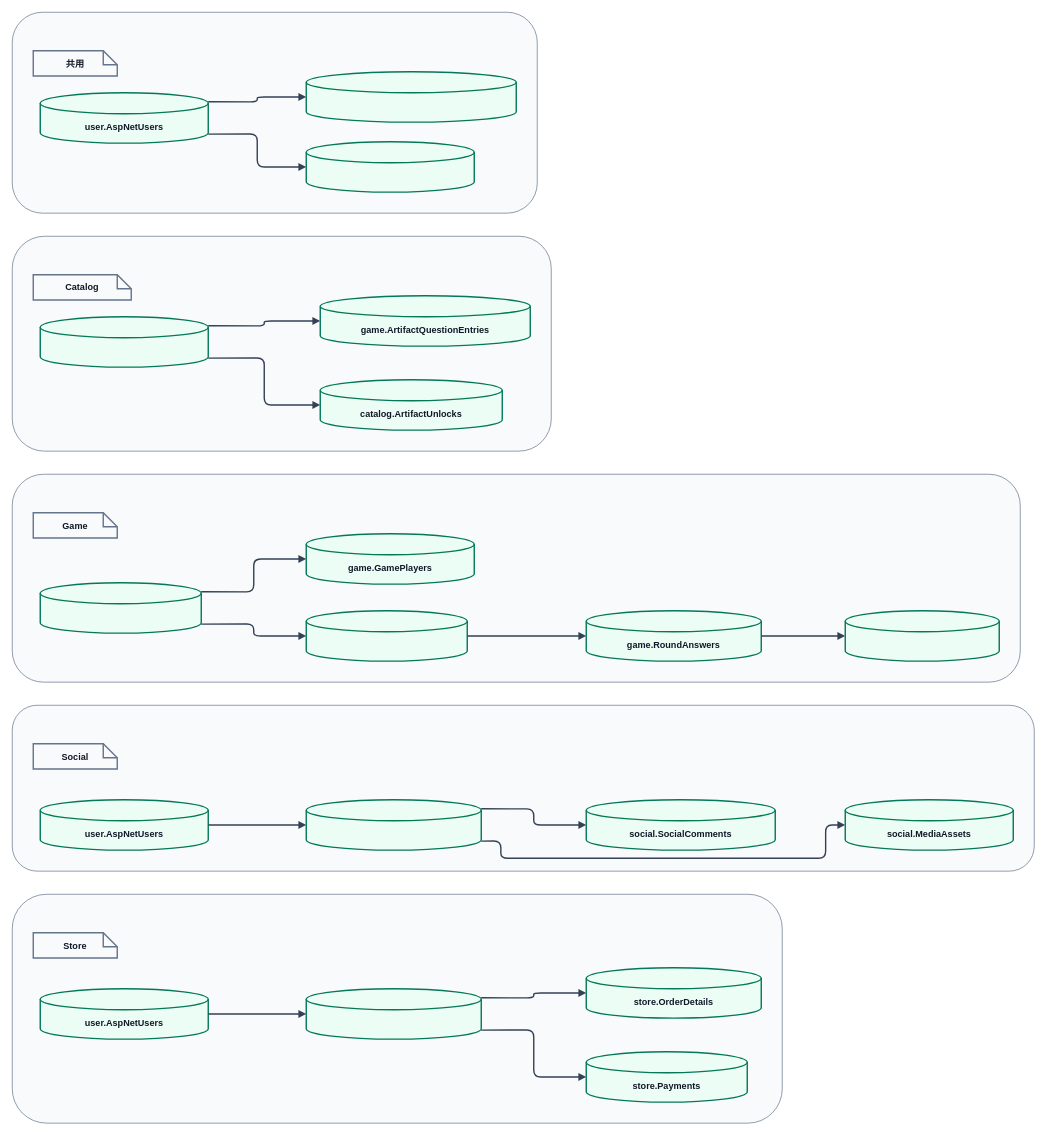
This 1047x1135 diagram has some shape labels left out. The centre of each missing label's shape, as x and y in pixels:
"catalog.Artifacts" belongs at pixel 124 342.
"common.DailyMemberActivities" belongs at pixel 411 96.
"game.GameRooms" belongs at pixel 120 608.
"game.GameRounds" belongs at pixel 386 636.
"game.Votes" belongs at pixel 922 636.
"social.SocialPosts" belongs at pixel 393 824.
"store.StoreOrders" belongs at pixel 393 1014.
"user.UserProfiles" belongs at pixel 390 166.
